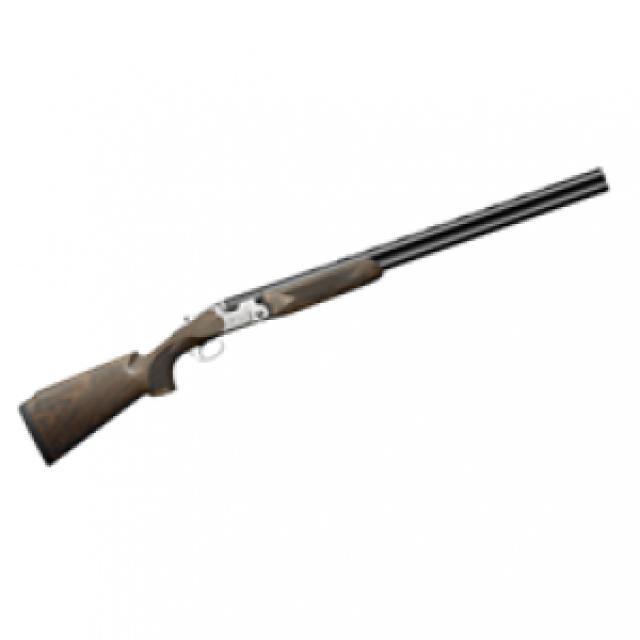rifle: (14, 160, 613, 477)
